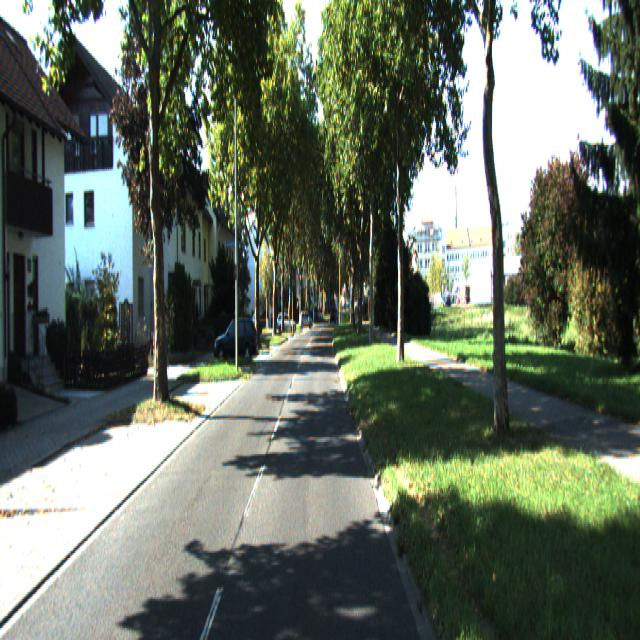Car: (212, 317, 257, 366)
